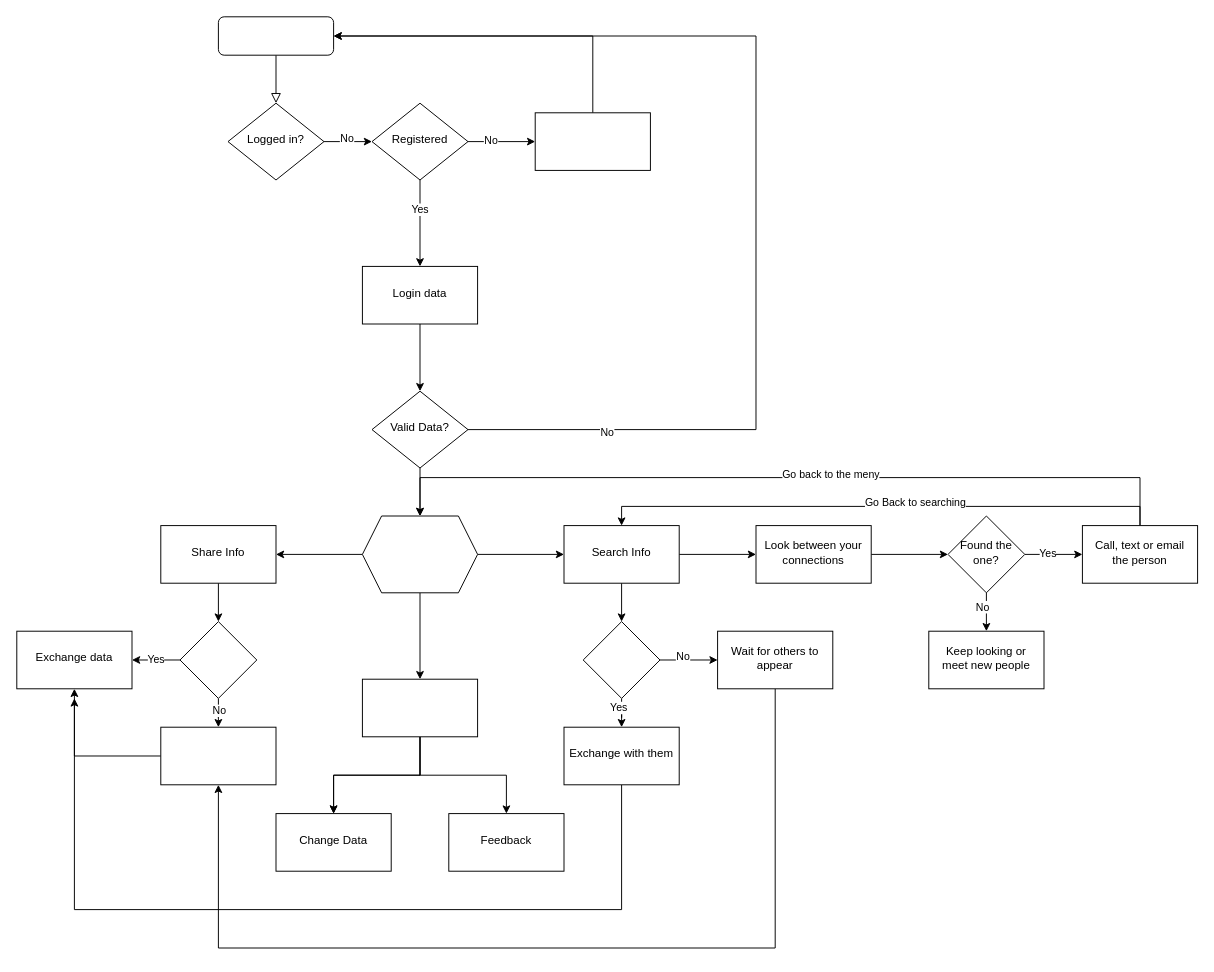
This 1214x972 diagram has some shape labels left out. Each missing label, with the centre of its shape:
"Home Page" belongs at pixel 275 35.
"Is partener ready?" belongs at pixel 218 659.
"Logged In" belongs at pixel 419 554.
"My Profile" belongs at pixel 419 707.
"New connections around?" belongs at pixel 621 659.
"Register" belongs at pixel 592 141.
"Wait to be ready" belongs at pixel 218 755.
